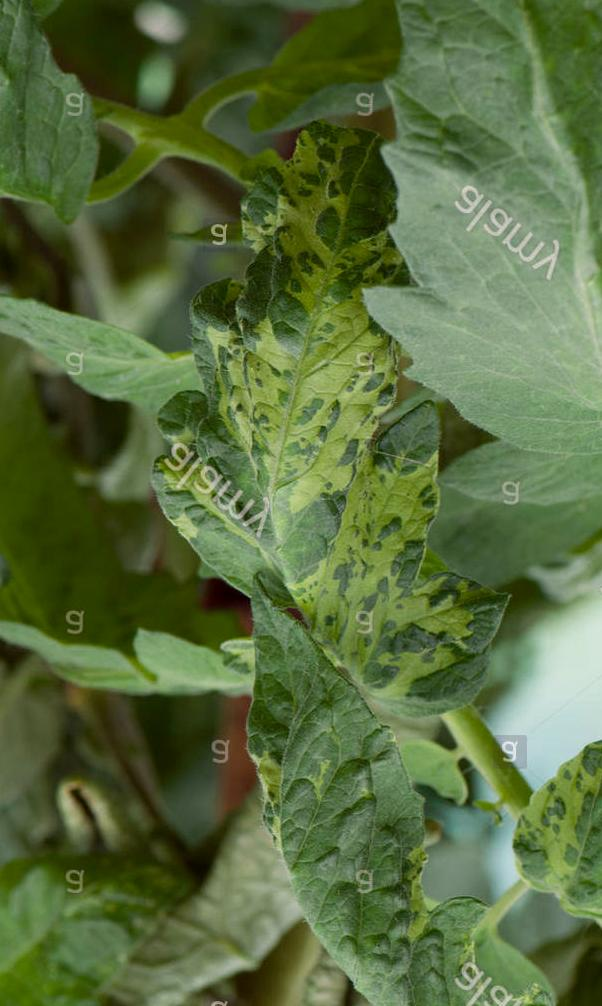Tomato leaf mosaic virus: (156, 115, 475, 771), (210, 599, 561, 1006), (359, 0, 602, 483), (480, 720, 602, 910)
